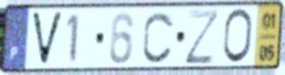1: (64, 13, 81, 65)
6: (108, 10, 136, 66)
C: (140, 9, 176, 65)
O: (221, 7, 255, 66)
V: (29, 10, 66, 68)
Z: (183, 7, 221, 67)
